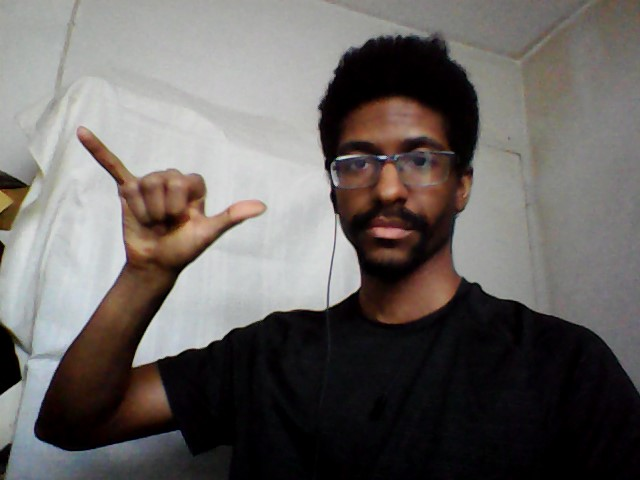y: (72, 122, 271, 277)
